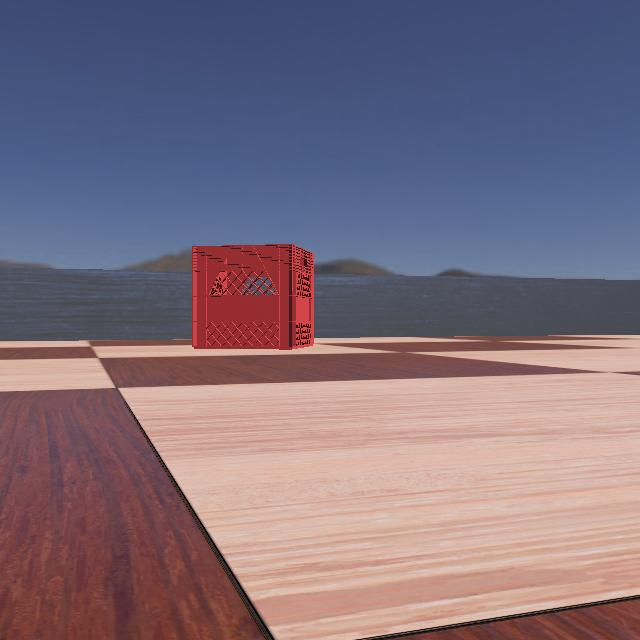plastic-crate: (188, 243, 314, 349)
